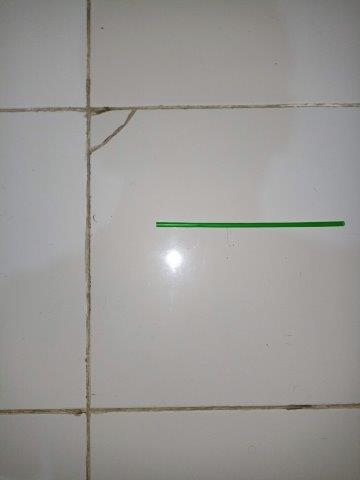sedotan: (155, 220, 345, 228)
